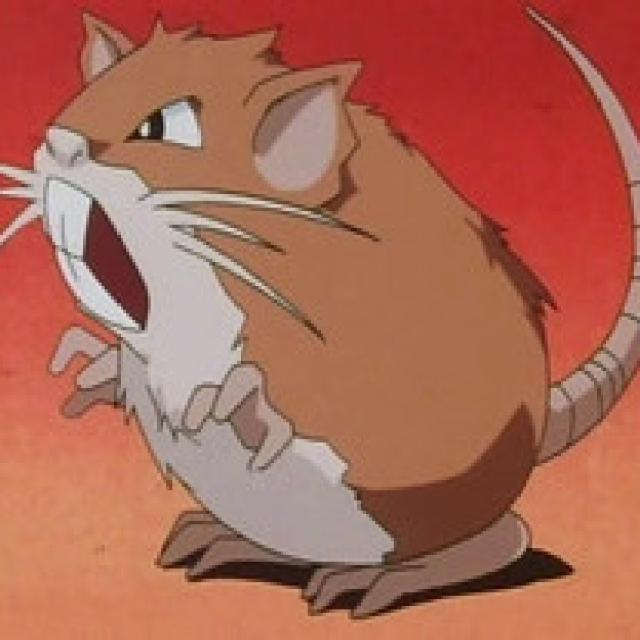Raticate: (53, 16, 592, 604)
